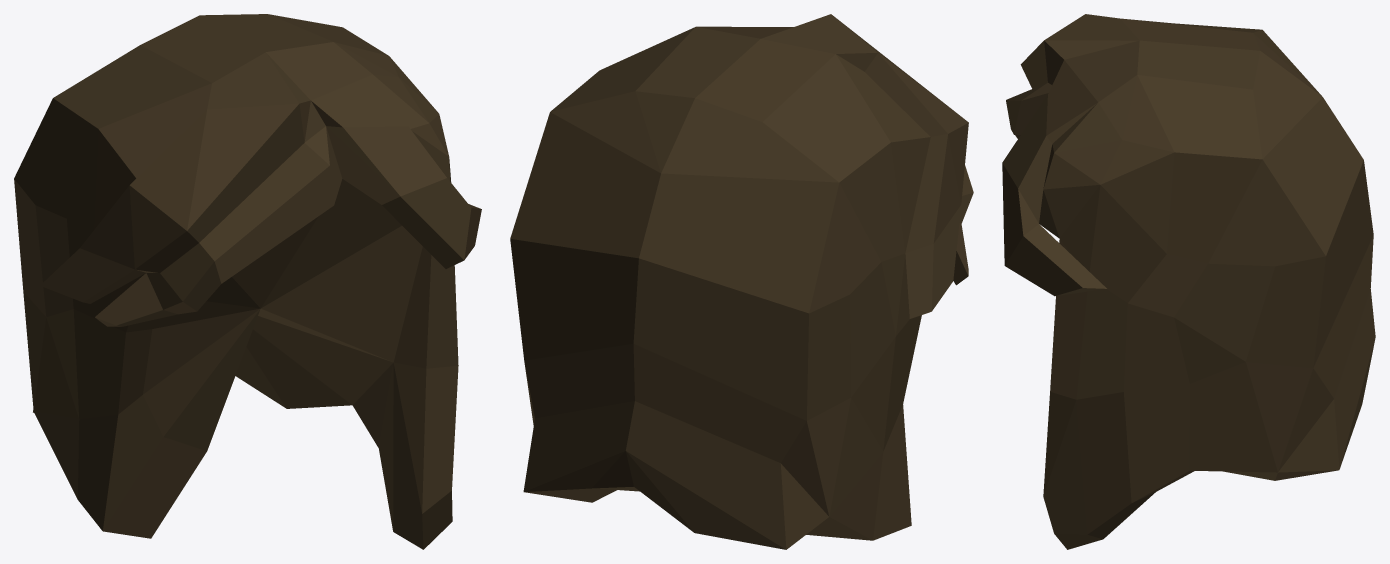
Rendered from Chr_Hair_34_Static.fbx.
The picture shows the model from 3 angles, left to right: view 1: azimuth 30°, elevation 25°; view 2: azimuth 150°, elevation 25°; view 3: azimuth 270°, elevation 25°; orthographic projection. The views are drawn at different scales.
Parts seen in each view (by area): view 1: Chr_Hair_34_Static; view 2: Chr_Hair_34_Static; view 3: Chr_Hair_34_Static.
Part boxes in pixels (x1=…): Chr_Hair_34_Static: x1=14, y1=14, x2=481, y2=549; Chr_Hair_34_Static: x1=510, y1=14, x2=973, y2=549; Chr_Hair_34_Static: x1=1002, y1=14, x2=1375, y2=549.
Bounding box in the file's own units: 0.2928 × 0.3628 × 0.269.
